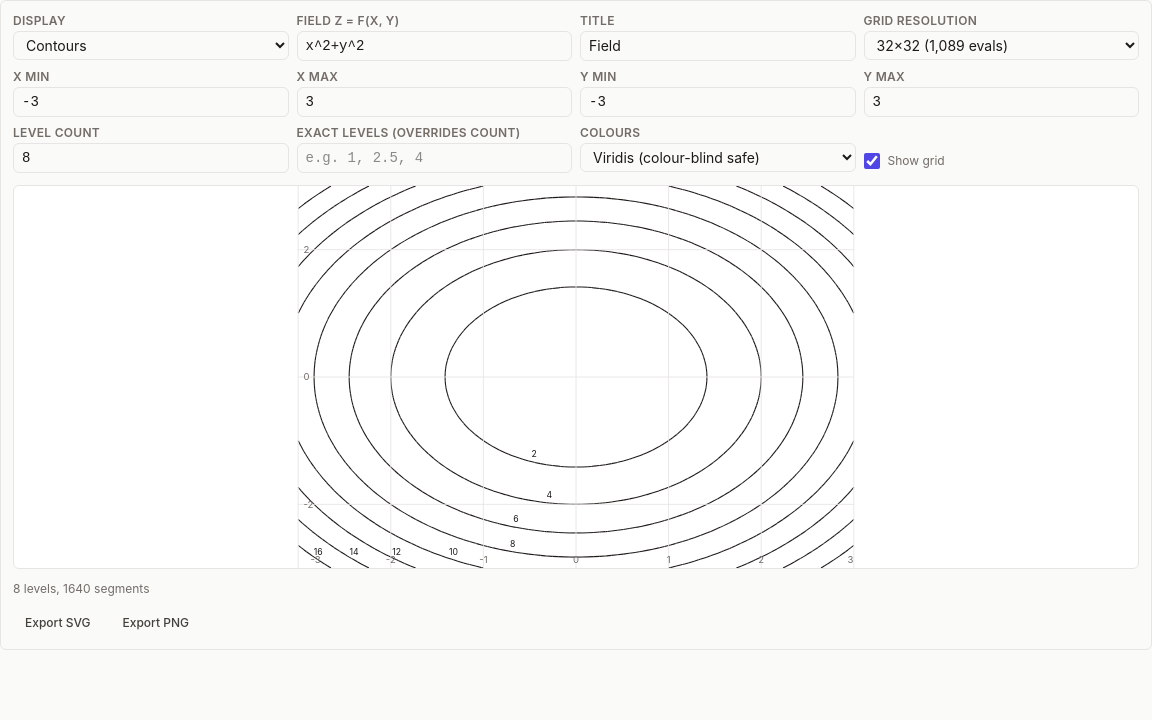
2D field view › draws arrows with a stated stride and refuses bad input loudly
Select "Vector arrows" in the dropdown named "Field display": (151, 46) x1=13 y1=31 x2=288 y2=60
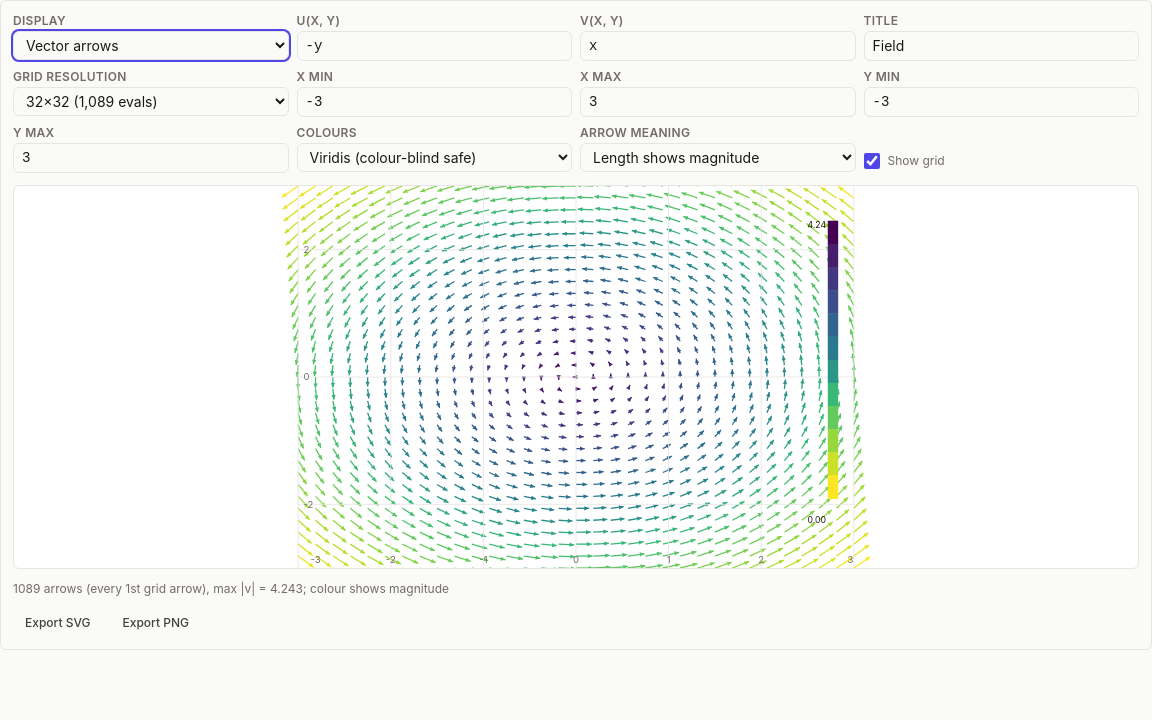
Expected: the text with test id "field-summary" shows "arrows", x1=13 y1=581 x2=449 y2=596
Replace the text in the field named "U component" with "1/": (434, 46) x1=296 y1=31 x2=572 y2=61
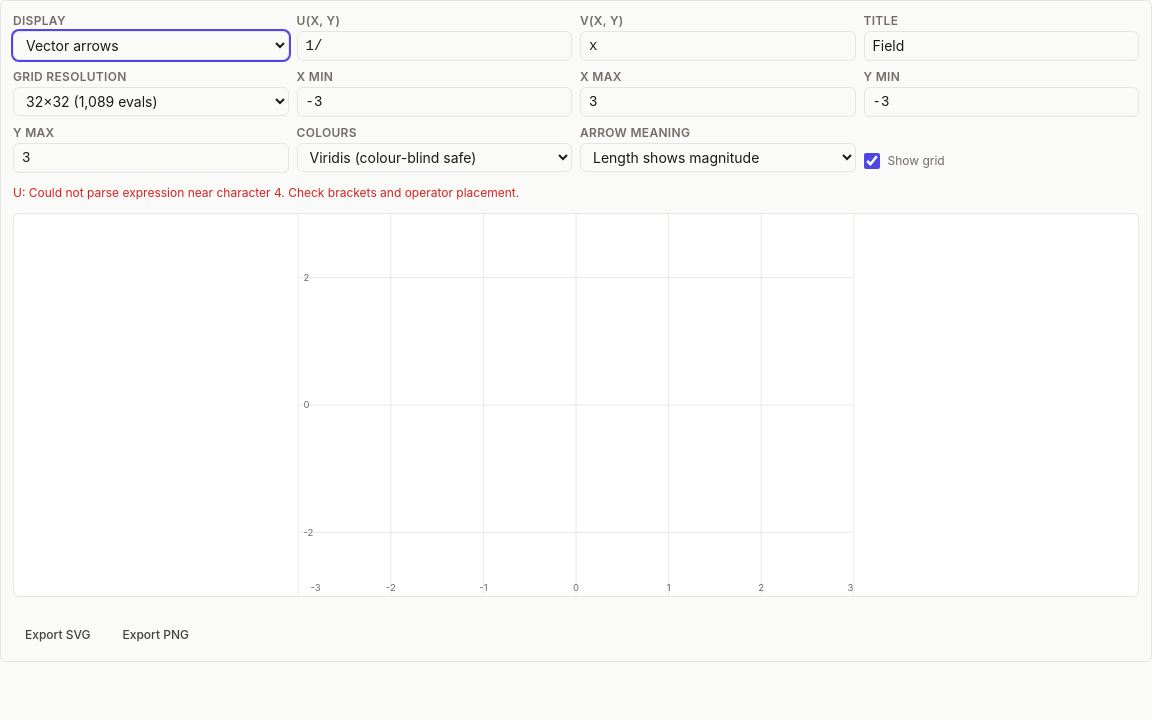
Expected: the message with test id "field-error" is shown, x1=13 y1=185 x2=519 y2=200
